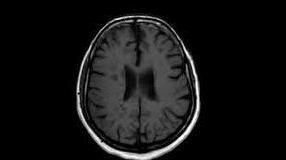Normal_Brain: (1, 1, 286, 160)
